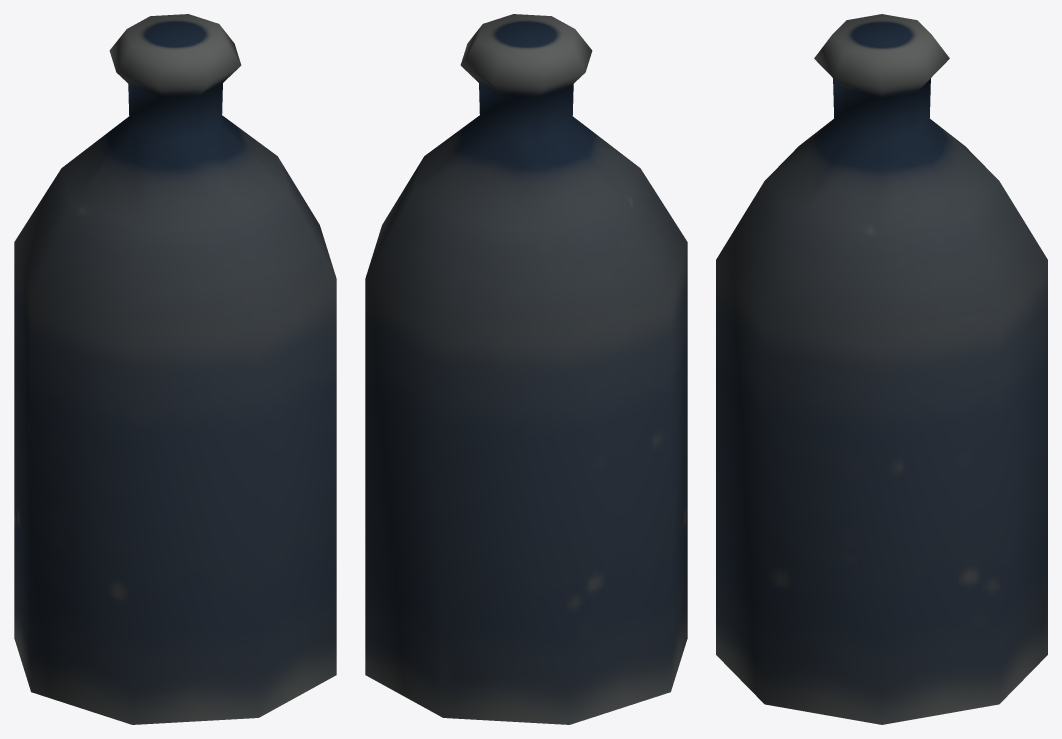
File: O_Bottle_A.fbx
The picture shows the model from 3 angles, left to right: view 1: azimuth 30°, elevation 25°; view 2: azimuth 150°, elevation 25°; view 3: azimuth 270°, elevation 25°; orthographic projection.
Visible parts, largest first — view 1: O_Bottle_A; view 2: O_Bottle_A; view 3: O_Bottle_A.
Part boxes in pixels (left/top/right/bottom): O_Bottle_A: left=14, top=14, right=336, bottom=724; O_Bottle_A: left=365, top=14, right=687, bottom=724; O_Bottle_A: left=716, top=14, right=1047, bottom=724.
Size of the model in its own units: 17.12 by 35.26 by 17.12.
